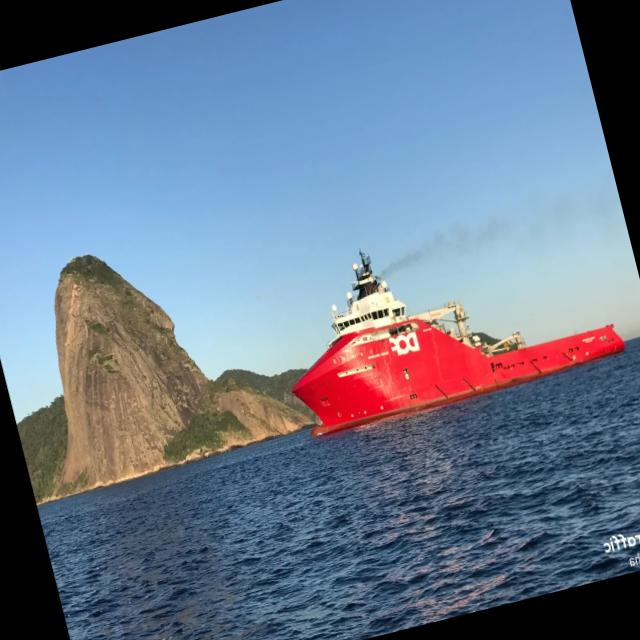Offshore: (292, 252, 624, 435)
